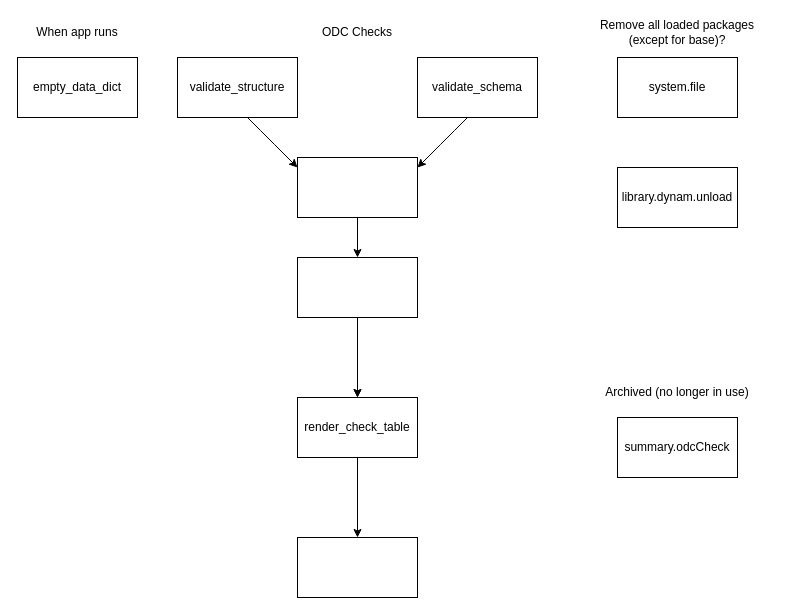
Image size: 785x615. Some labels were removed from this diagram. Here are the shapes that lost their labels. From the top down, the centre of each, then its label:
the point at 357,187: validate_odc
the point at 357,287: checklist_to_df
the point at 357,567: startApp
